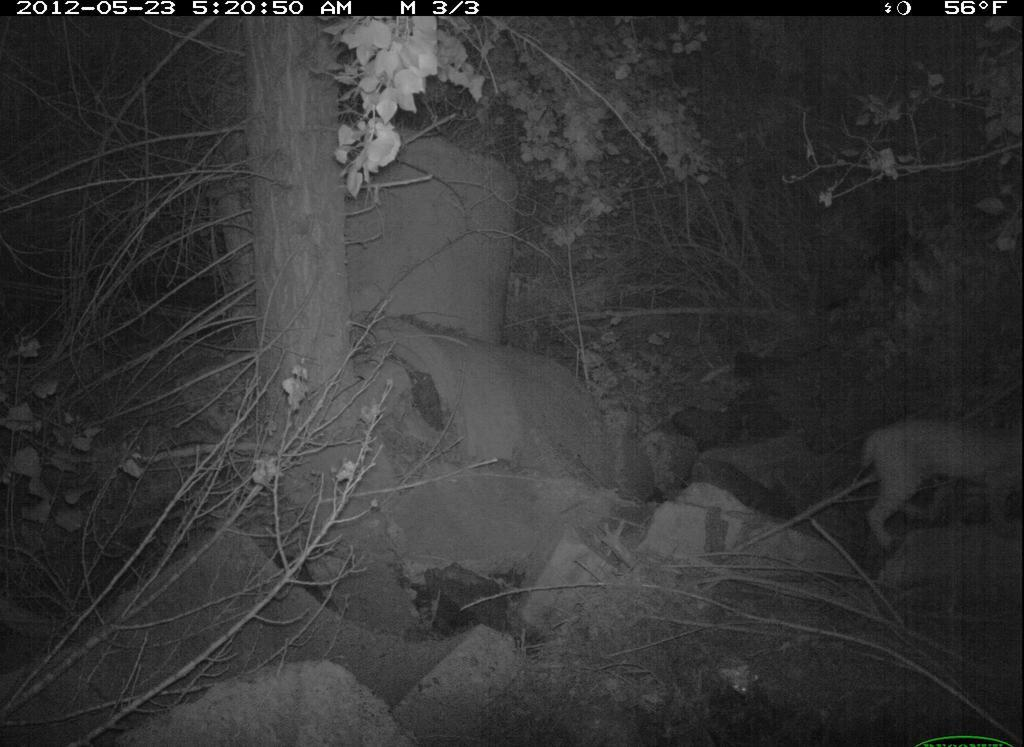bobcat: (835, 388, 1023, 551)
